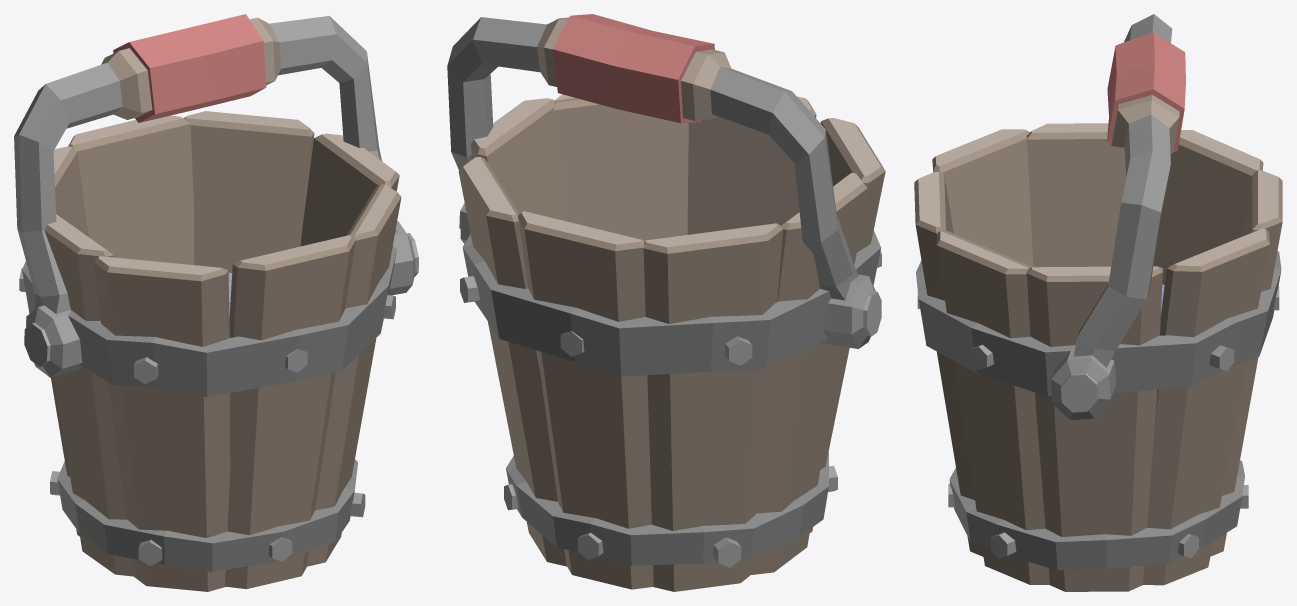
Rendered from BUCKET.fbx.
3 views of the same model, side by side, from view 1: azimuth 30°, elevation 25°; view 2: azimuth 150°, elevation 25°; view 3: azimuth 270°, elevation 25° (orthographic). The views are drawn at different scales.
Visible parts, largest first — view 1: Emmer; view 2: Emmer; view 3: Emmer.
Part boxes in pixels (x1,y1,x2,y2): Emmer: [14, 14, 418, 591]; Emmer: [447, 14, 885, 591]; Emmer: [914, 14, 1282, 591].
Size of the model in its own units: 0.6134 by 0.75 by 0.5204.
